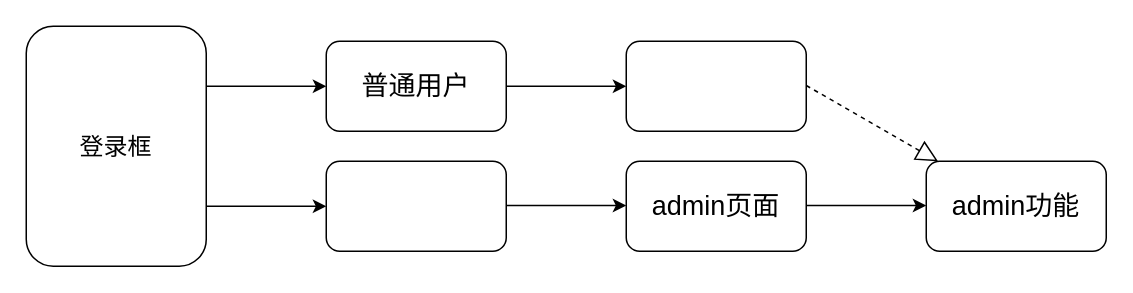
Image size: 1133x293. Some labels were removed from this diagram. Here are the shapes that lost their labels. From the top down, the box of each, then its label:
(625, 40, 806, 131): 普通页面
(325, 160, 506, 251): admin用户
